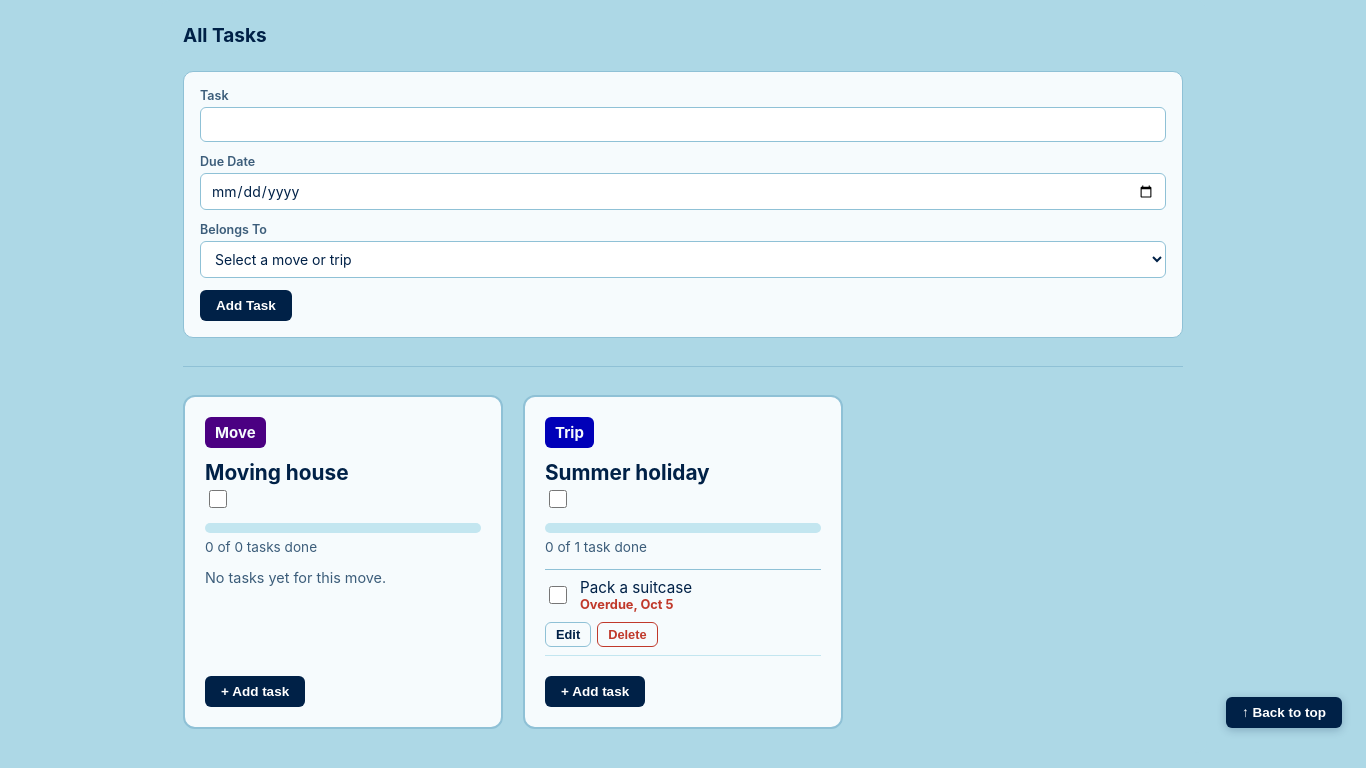
Test case: edits a task and can reassign it to a move
The width and height of the screenshot is (1366, 768).
Step 1. Click the button with aria-label "Edit Pack a suitcase" → click(568, 634), box [545,622,591,647]
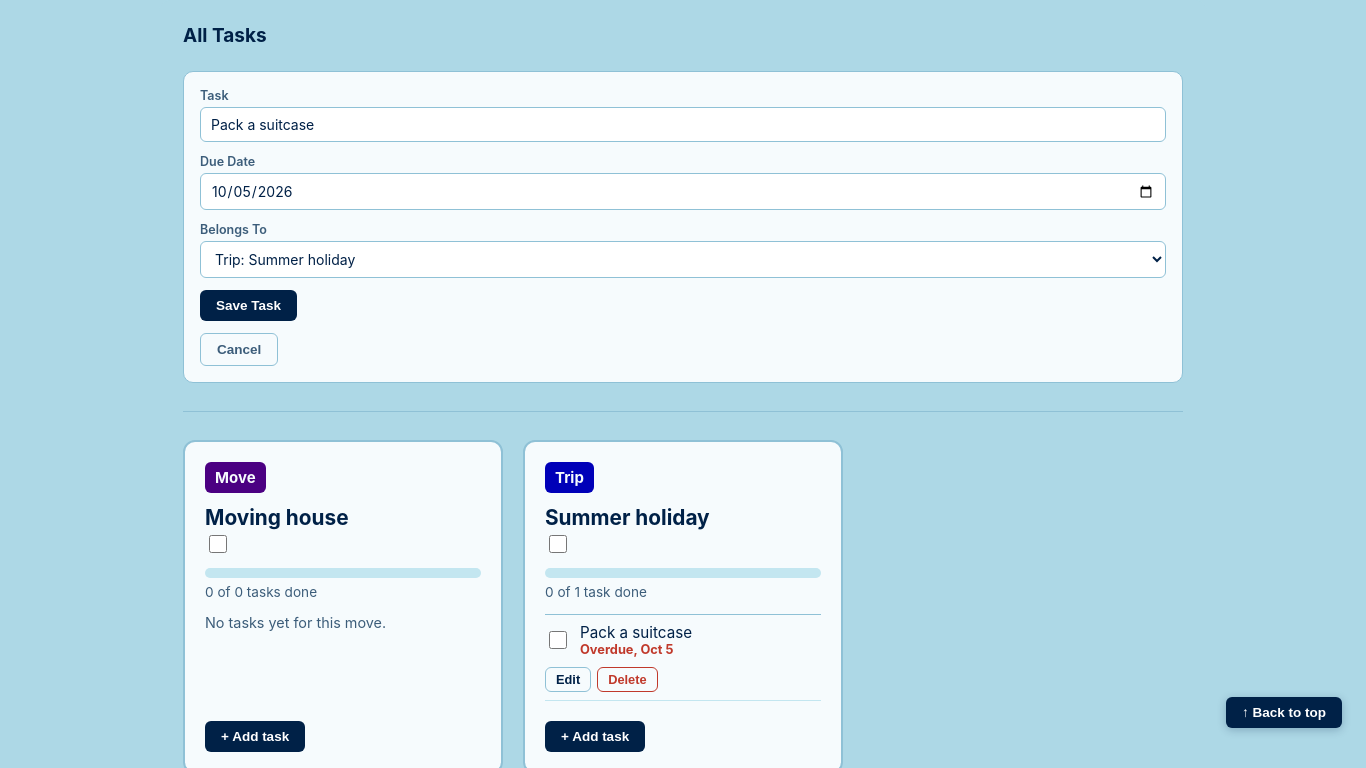
Step 2. Replace the text in the field labelled "Task" with "Pack two suitcases" → (683, 124), box [200,107,1166,142]
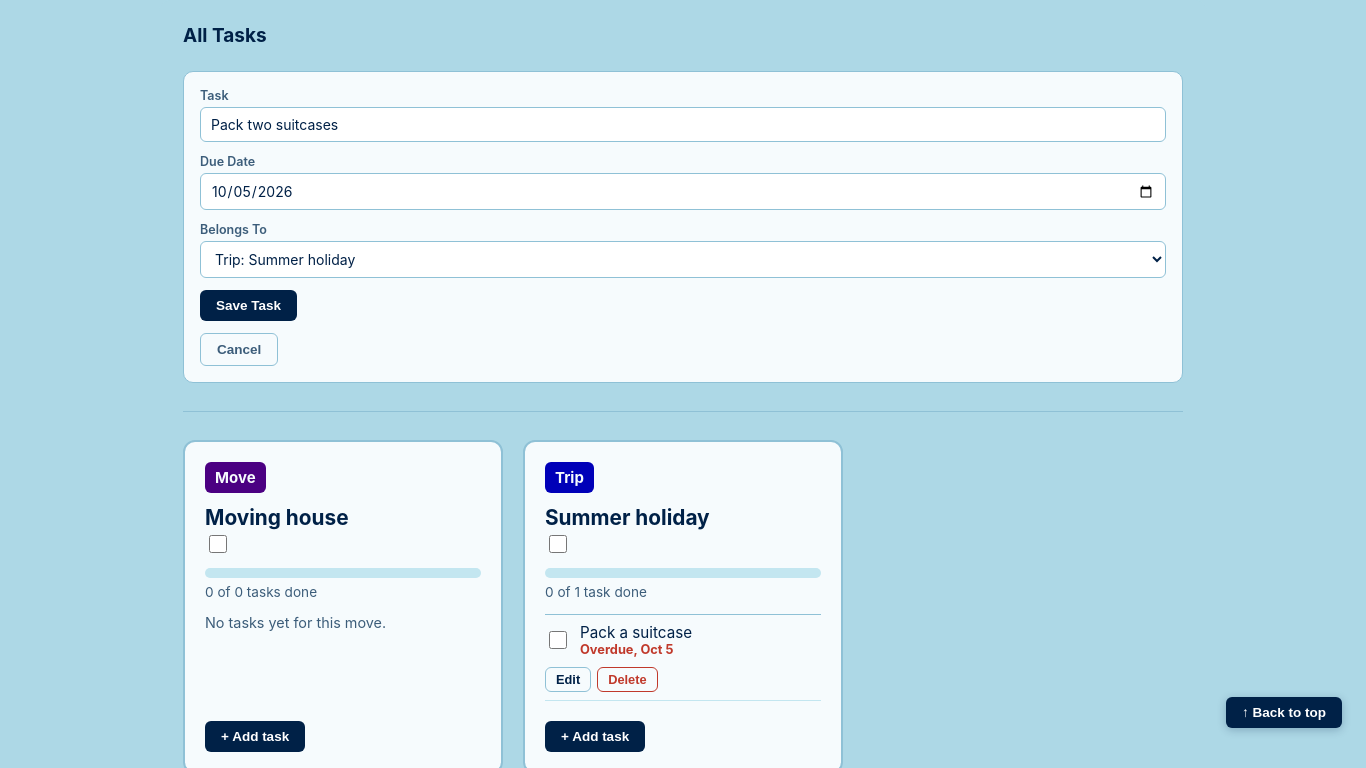
Step 3. Type "2026-10-06" into the date field labelled "Due Date" → (683, 192), box [200,173,1166,210]
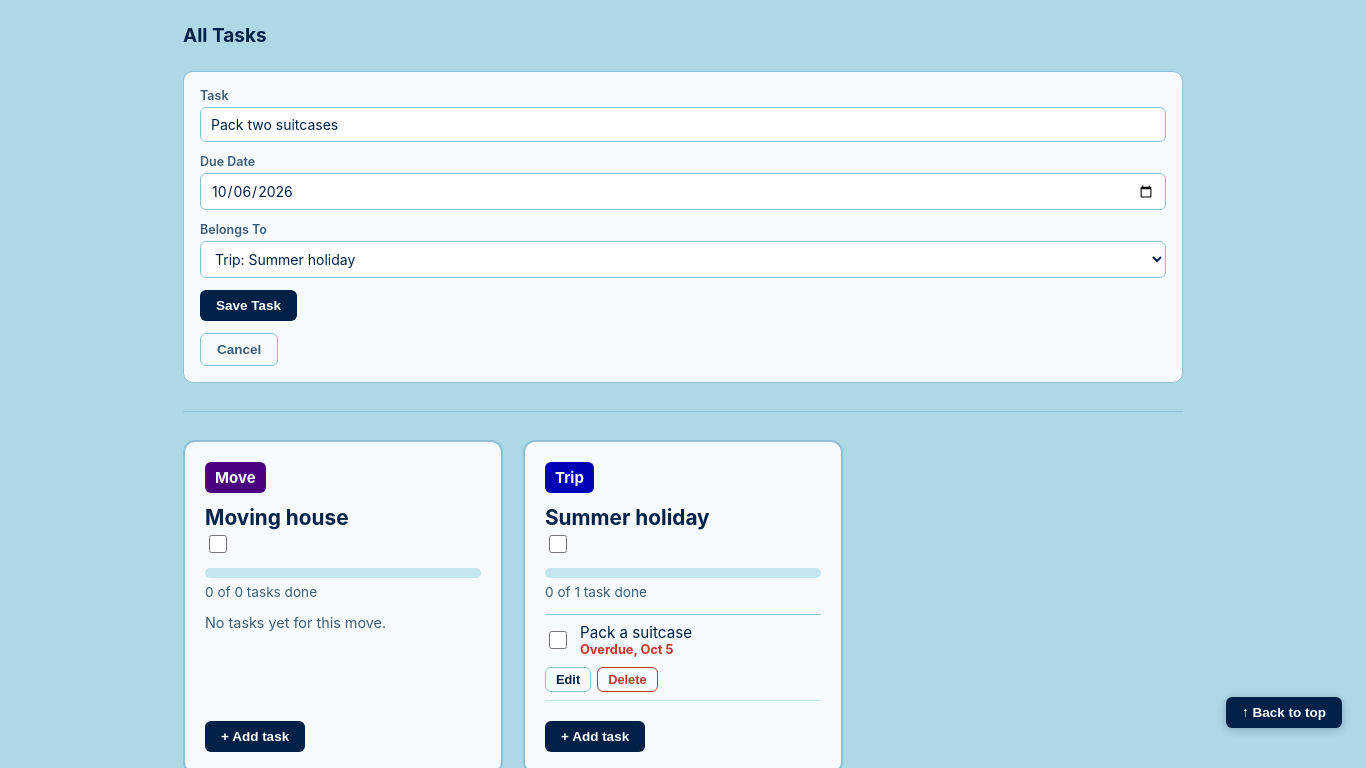
Step 4. Select "Move: Moving house" in the dropdown labelled "Belongs To" → (683, 260), box [200,241,1166,278]
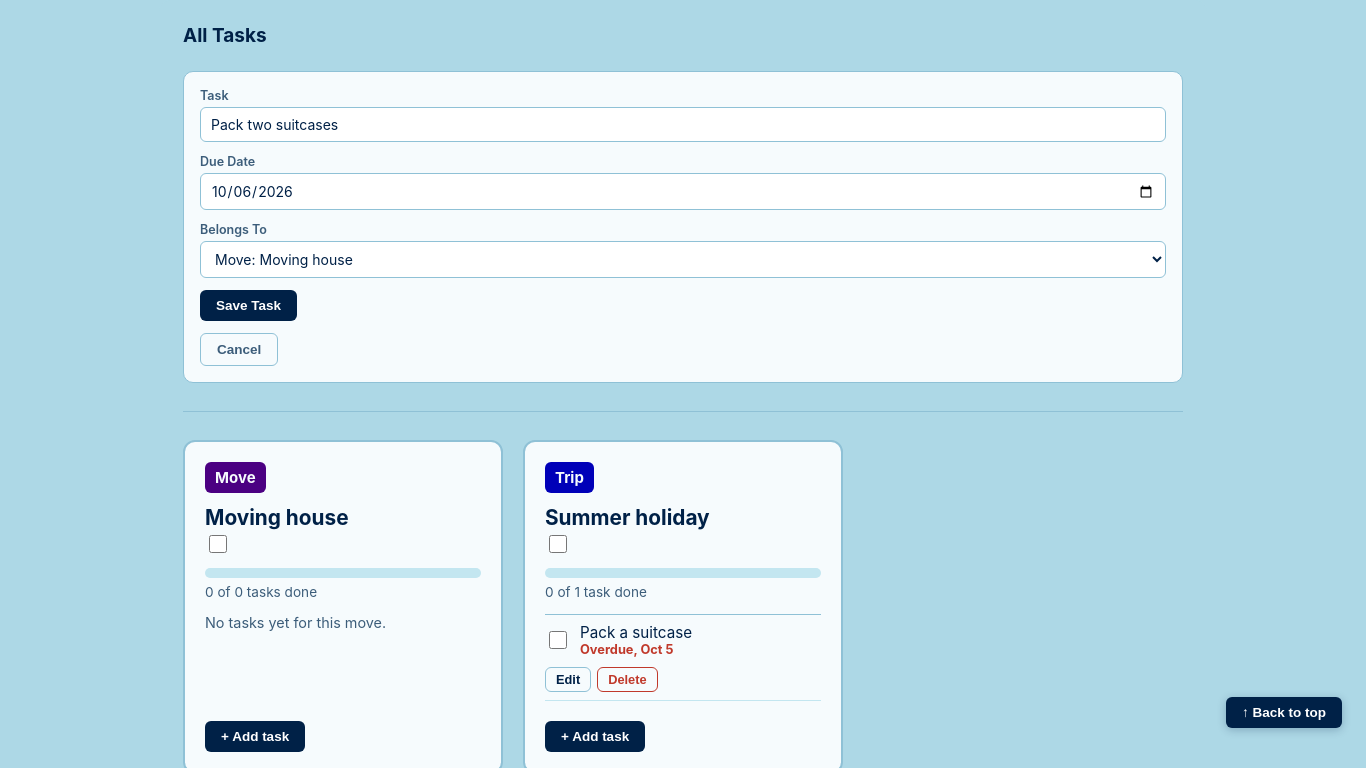
Step 5. Click the button "Save Task" → click(249, 306), box [200,290,297,321]
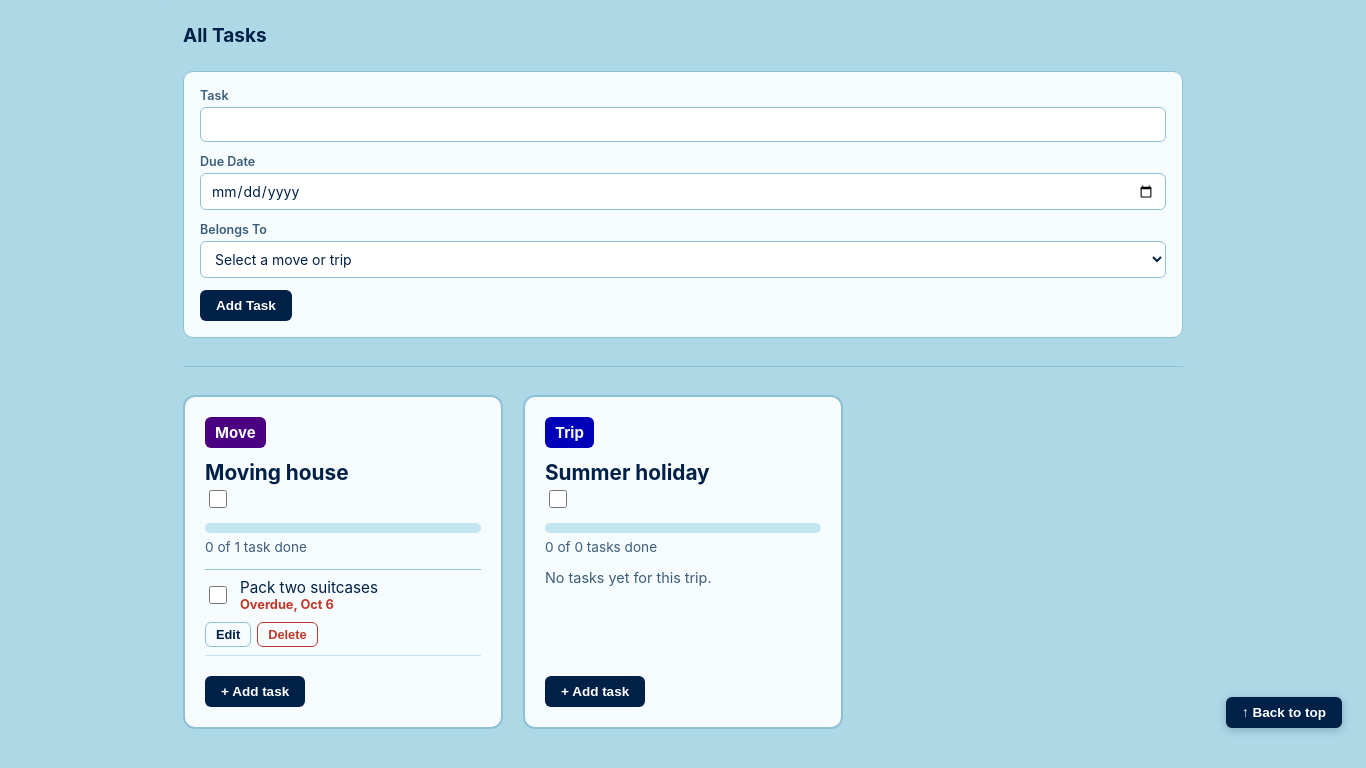
Expected: the text "Pack two suitcases" is shown, [240,578,378,597]
Expected: the button "Add Task" is shown, [200,290,292,321]
